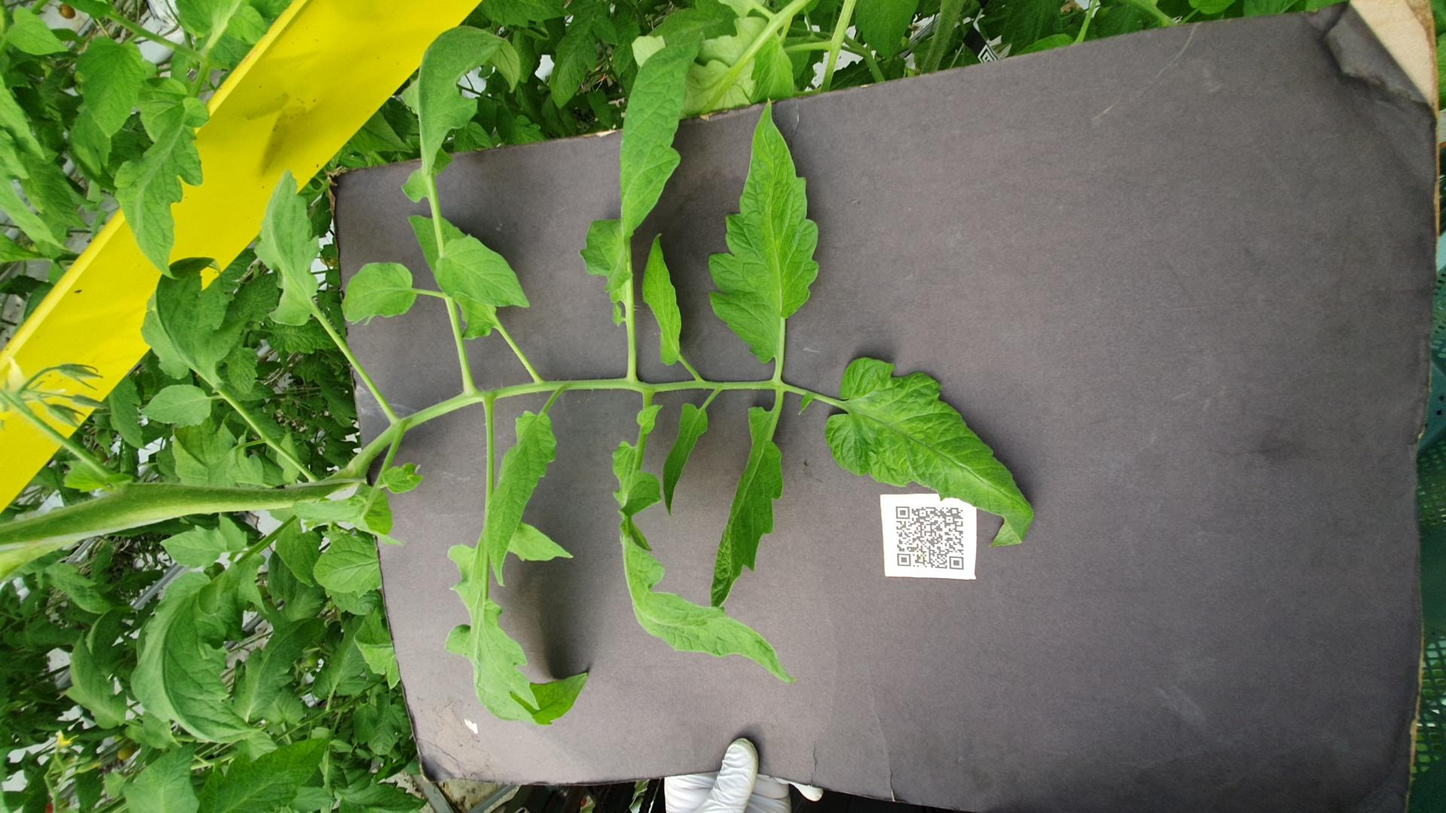Healthy: (217, 342, 665, 451), (473, 463, 812, 582), (904, 325, 1375, 397), (805, 398, 1278, 461), (150, 249, 483, 334), (120, 71, 430, 144), (942, 64, 1310, 120), (360, 398, 736, 442), (406, 271, 722, 315), (862, 142, 1148, 181), (0, 110, 139, 189), (1200, 40, 1381, 83), (1250, 308, 1446, 347), (900, 242, 1031, 299), (150, 36, 326, 72), (798, 359, 1033, 385), (526, 371, 733, 400), (0, 70, 132, 113), (867, 191, 981, 236), (378, 175, 500, 216), (688, 77, 765, 121), (437, 88, 515, 130), (1349, 3, 1436, 39)
